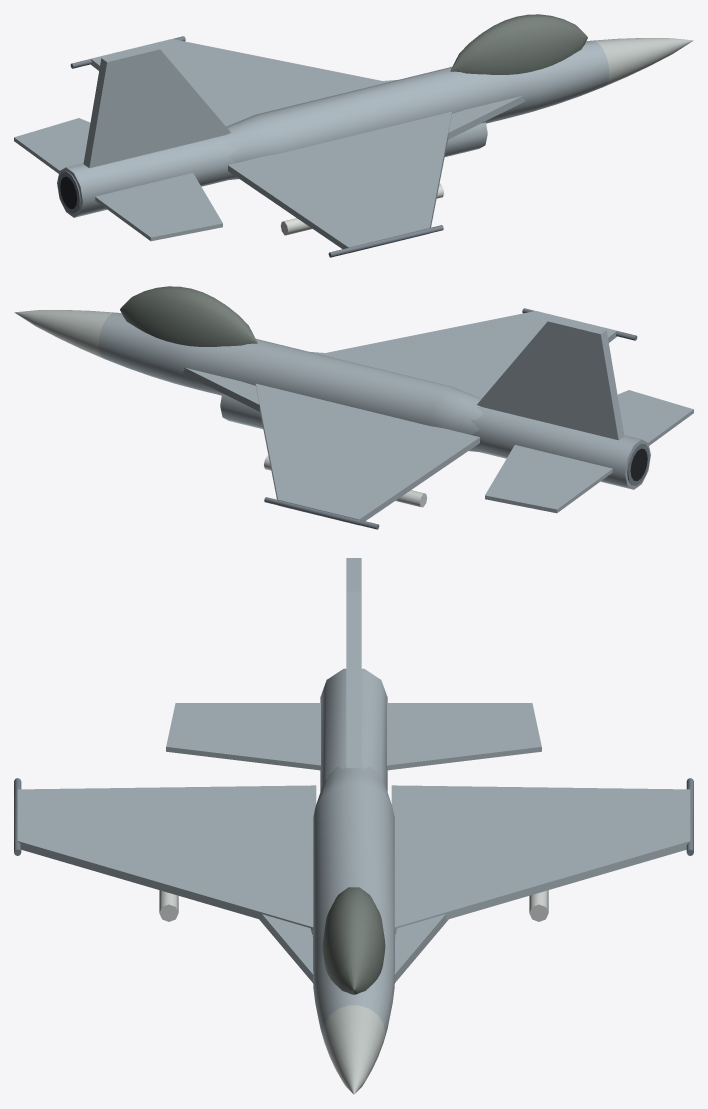
File: jasdf_fighter_f2.glb
The picture shows the model from 3 angles, top to bottom: view 1: azimuth 30°, elevation 25°; view 2: azimuth 150°, elevation 25°; view 3: azimuth 270°, elevation 25°; orthographic projection. The views are drawn at different scales.
Visible parts, largest first — view 1: naval_paint, canopy_gold, array_face, titanium, missile_body, rubber; view 2: naval_paint, canopy_gold, array_face, titanium, missile_body, rubber; view 3: naval_paint, canopy_gold, array_face, missile_body.
Part boxes in pixels (bbox=[...]): naval_paint: bbox=[14, 39, 609, 253]; canopy_gold: bbox=[450, 14, 587, 74]; array_face: bbox=[593, 38, 693, 86]; titanium: bbox=[58, 36, 443, 257]; missile_body: bbox=[280, 183, 443, 235]; rubber: bbox=[60, 176, 77, 208]; naval_paint: bbox=[98, 311, 693, 525]; canopy_gold: bbox=[120, 286, 257, 346]; array_face: bbox=[14, 310, 114, 358]; titanium: bbox=[264, 308, 649, 529]; missile_body: bbox=[264, 455, 427, 507]; rubber: bbox=[630, 448, 647, 480]; naval_paint: bbox=[17, 558, 690, 1041]; canopy_gold: bbox=[322, 887, 385, 994]; array_face: bbox=[322, 1005, 385, 1094]; missile_body: bbox=[159, 890, 548, 921].
Bounding box in the file's own units: 10 × 2.7 × 7.22.
